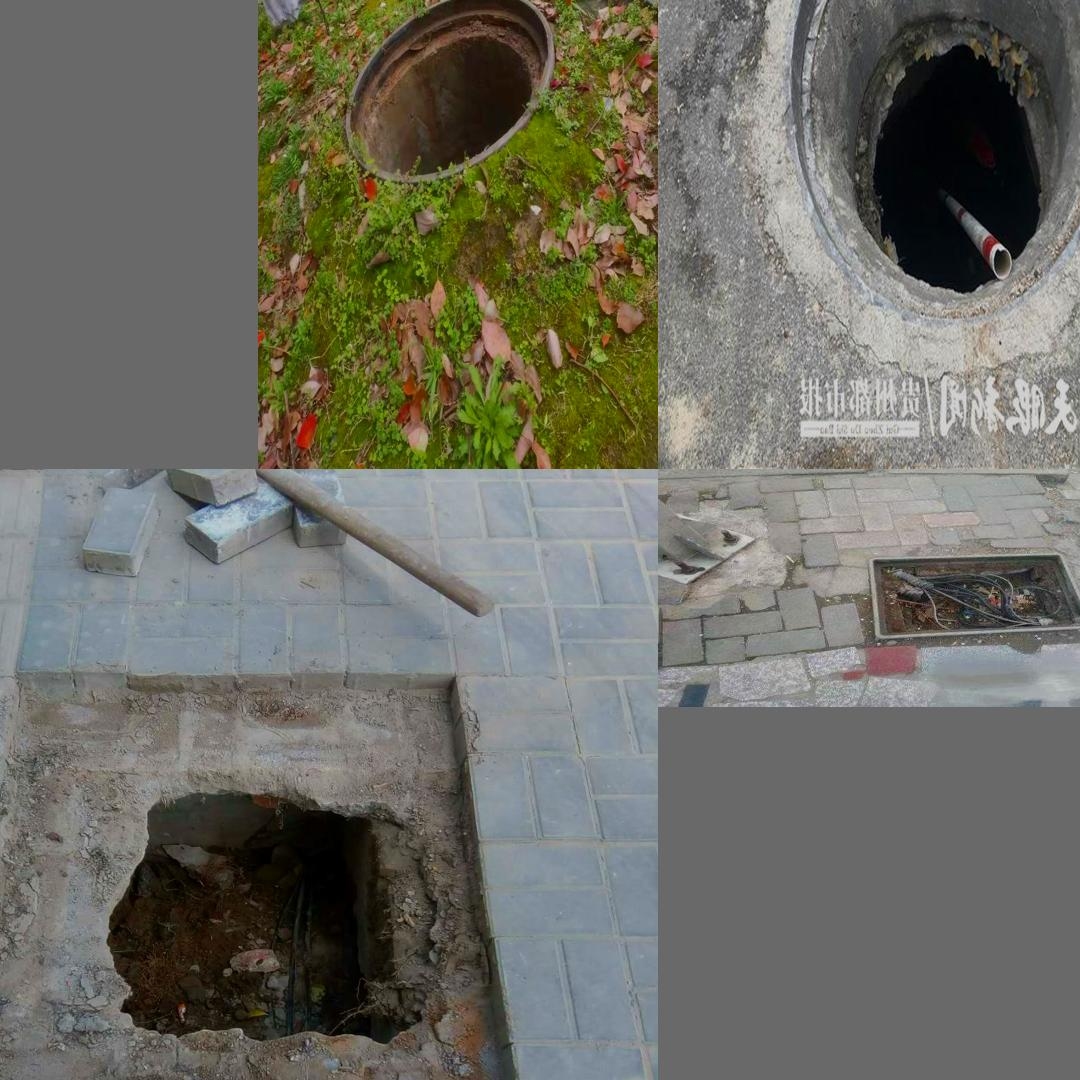lose: (0, 669, 518, 1080), (756, 0, 1080, 344), (344, 0, 553, 185), (868, 550, 1076, 641)
